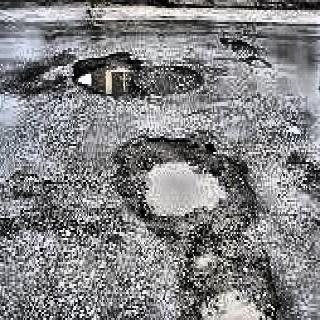pothole: (122, 138, 237, 230), (184, 224, 278, 320), (73, 48, 143, 97), (140, 65, 202, 98), (224, 39, 250, 55), (244, 54, 272, 68)
